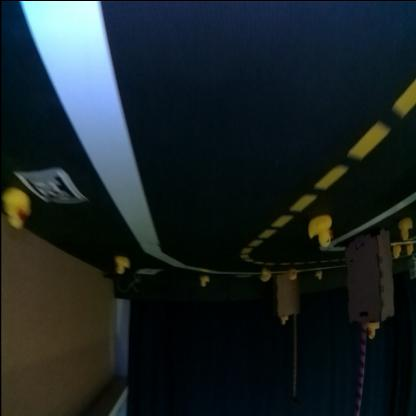Duckie: (4, 190, 30, 229), (308, 216, 332, 245), (115, 256, 130, 274), (400, 218, 412, 238), (367, 322, 379, 338), (261, 268, 271, 282), (199, 275, 208, 287), (392, 245, 400, 258), (290, 270, 296, 280), (281, 317, 288, 324), (316, 272, 322, 279), (407, 247, 413, 254)
QR code: (14, 168, 86, 203)
